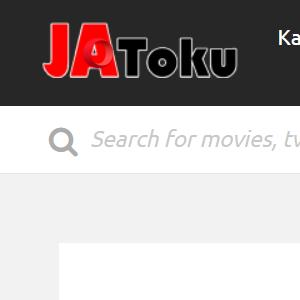opera: (83, 37, 113, 68)
